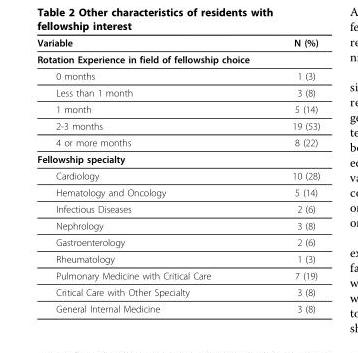table: (36, 36, 319, 314)
table column: (36, 36, 270, 314), (270, 36, 319, 314)
table column header: (36, 36, 319, 50)
table projected row header: (36, 50, 319, 67), (36, 150, 319, 167)
table row: (36, 50, 319, 67), (36, 67, 319, 84), (36, 100, 319, 117), (36, 133, 319, 150), (36, 150, 319, 167), (36, 183, 319, 200), (36, 200, 319, 217), (36, 233, 319, 250), (36, 266, 319, 283), (36, 283, 319, 300), (36, 84, 319, 100), (36, 117, 319, 133), (36, 167, 319, 183), (36, 217, 319, 233), (36, 250, 319, 266), (36, 36, 319, 50), (36, 300, 319, 314)
